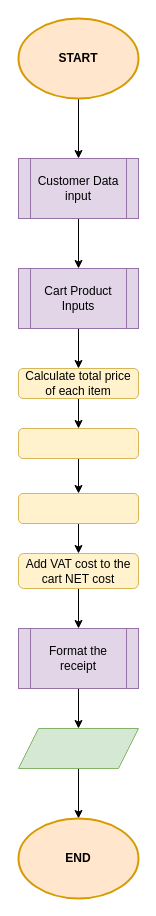
The diagram is 156 pixels wide and 916 high, and some of its shapes have lost their labels. Here are the shapes that lost their labels. From the top down, the centre of each, then its label:
At [78,443]: "Add total prices of the items to get cart cost".
At [78,508]: "Multiply cart cost x VAT rate".
At [78,748]: "Print Receipt".
